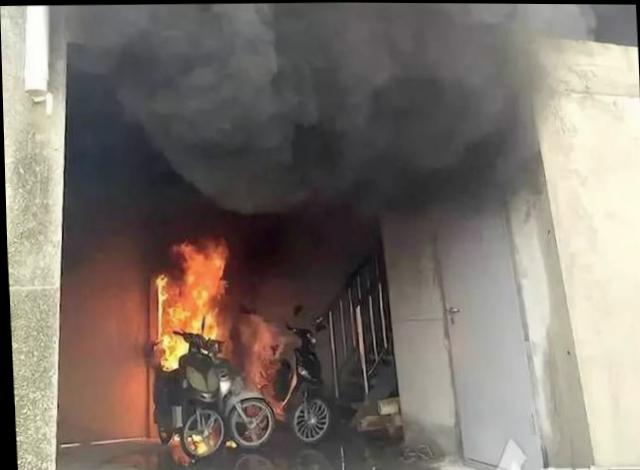fire: (172, 233, 225, 301), (245, 318, 273, 387), (178, 299, 218, 336), (151, 273, 177, 328), (154, 332, 185, 368), (186, 434, 204, 452)
